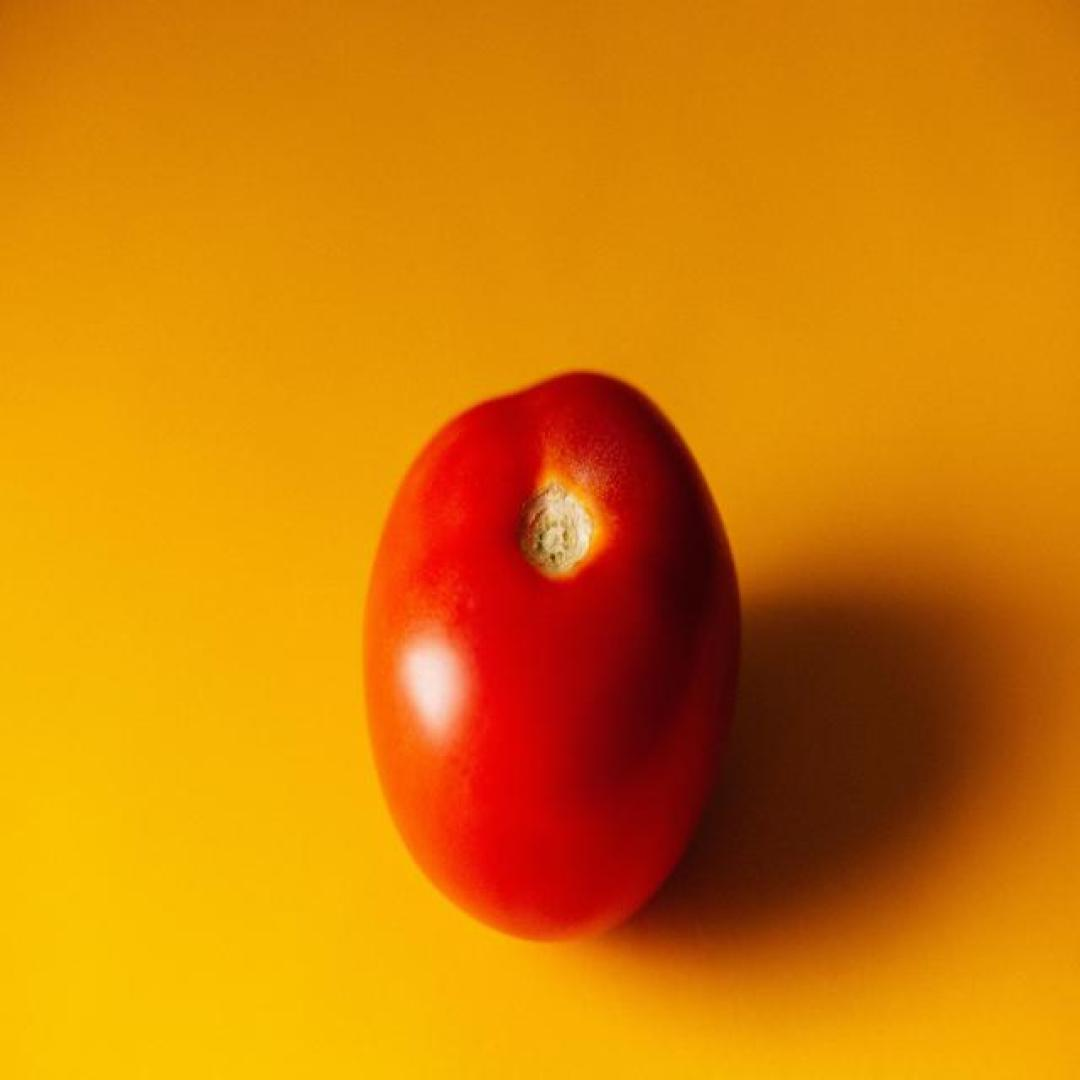matang: (363, 371, 741, 950)
